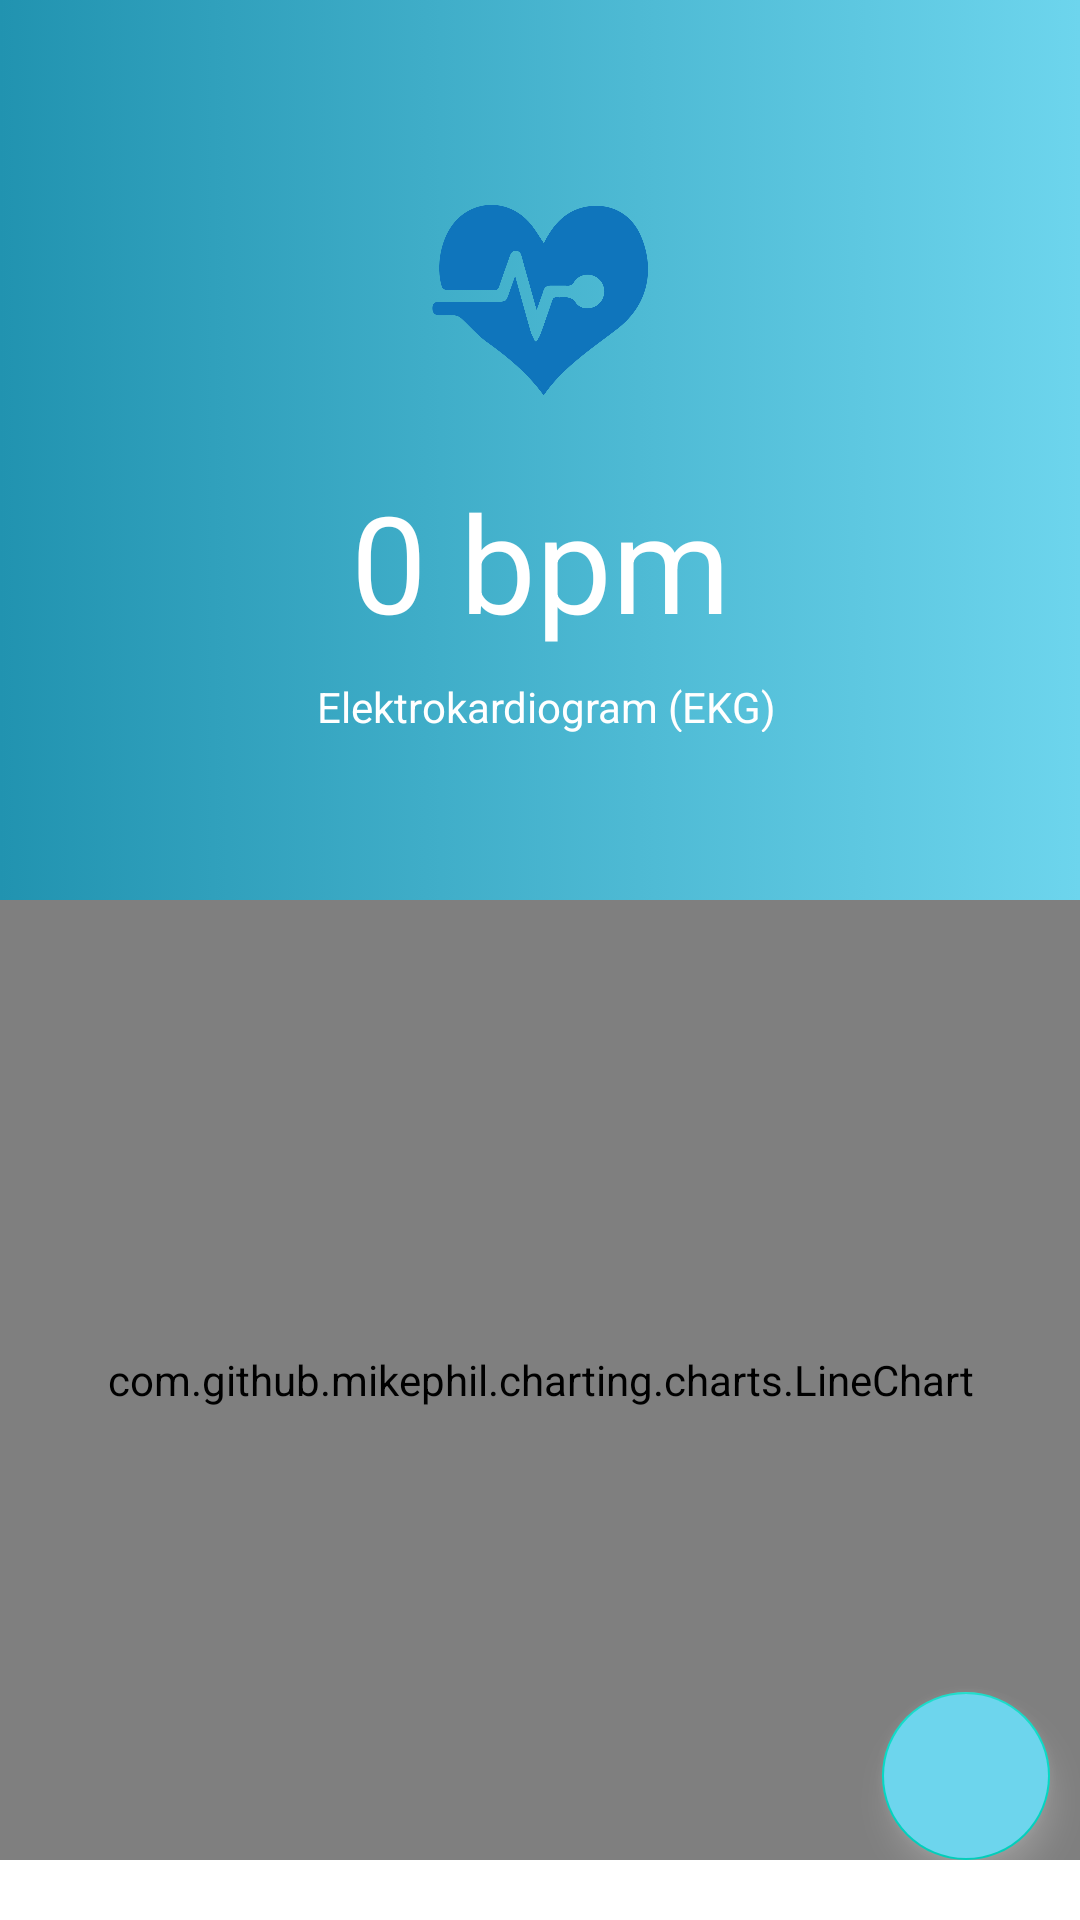

Screen size 1080 × 1920. Icon name, then its center in pixels as (x=x, y=y):
hicon: (x=540, y=300)
